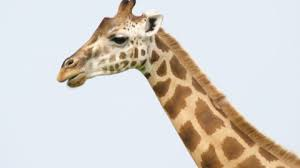Jirafa: (49, 1, 259, 158)
